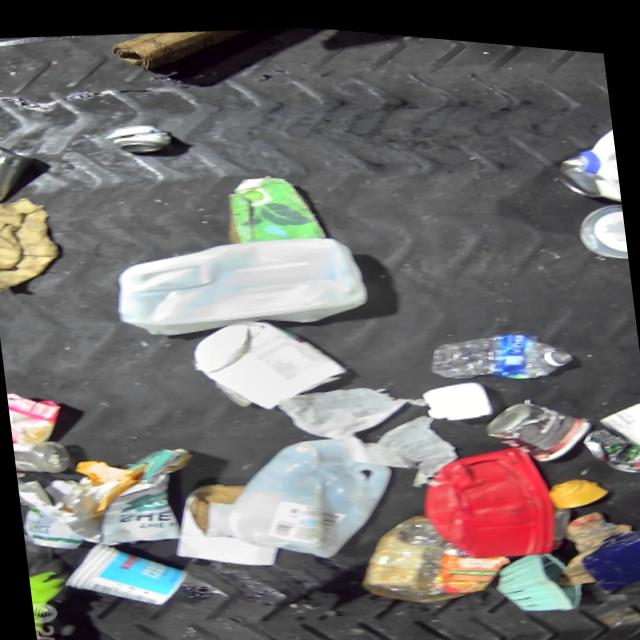can: (479, 378, 600, 463), (579, 408, 640, 466), (101, 113, 178, 158), (0, 135, 38, 209), (551, 144, 607, 192)
milk_jug: (104, 208, 374, 354), (218, 415, 405, 568)
plastic_bottle: (422, 309, 576, 383), (12, 431, 75, 476)
